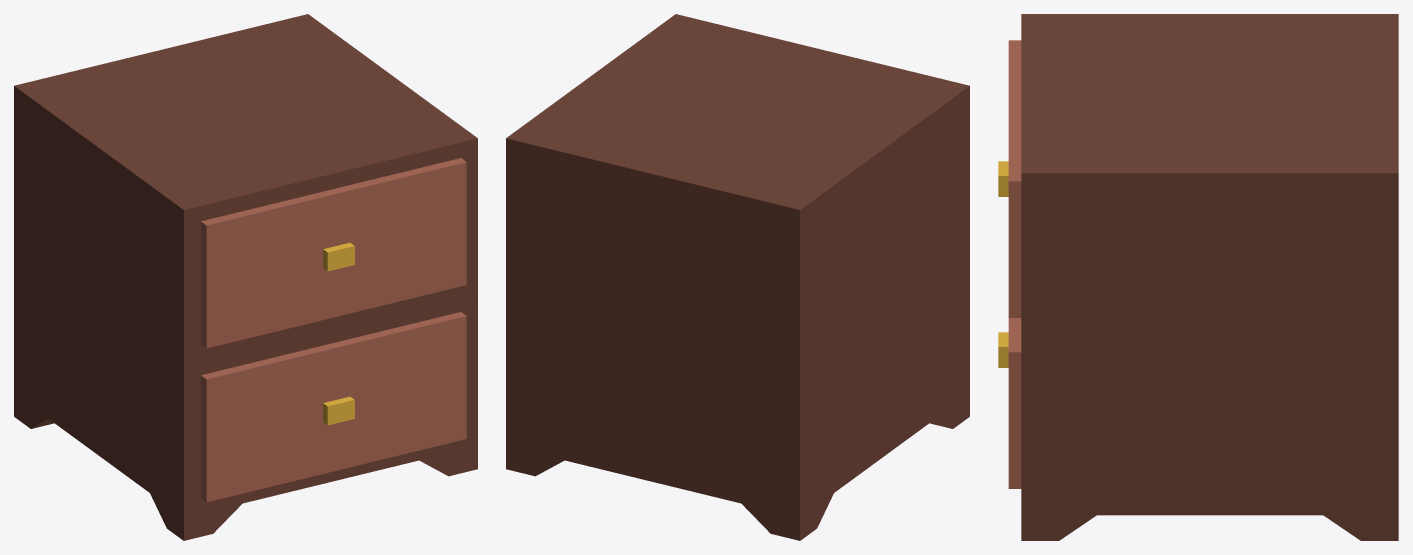
The model's file is drawer.fbx.
The picture shows the model from 3 angles, left to right: view 1: azimuth 30°, elevation 25°; view 2: azimuth 150°, elevation 25°; view 3: azimuth 270°, elevation 25°; orthographic projection. The views are drawn at different scales.
Parts seen in each view (by area): view 1: Cube; view 2: Cube; view 3: Cube.
Boxes of the visible parts, x1,y1,x2,y2 form: Cube: [14, 14, 477, 540]; Cube: [506, 14, 969, 540]; Cube: [998, 14, 1398, 540].
Bounding box in the file's own units: 200 × 215 × 212.
